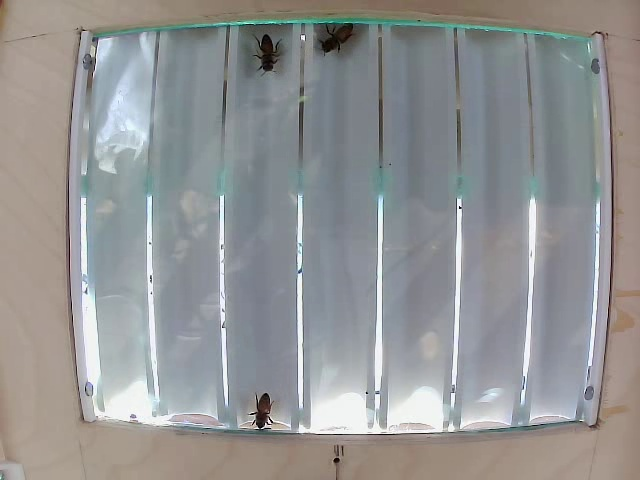bee: (252, 29, 280, 80), (248, 388, 275, 431)
